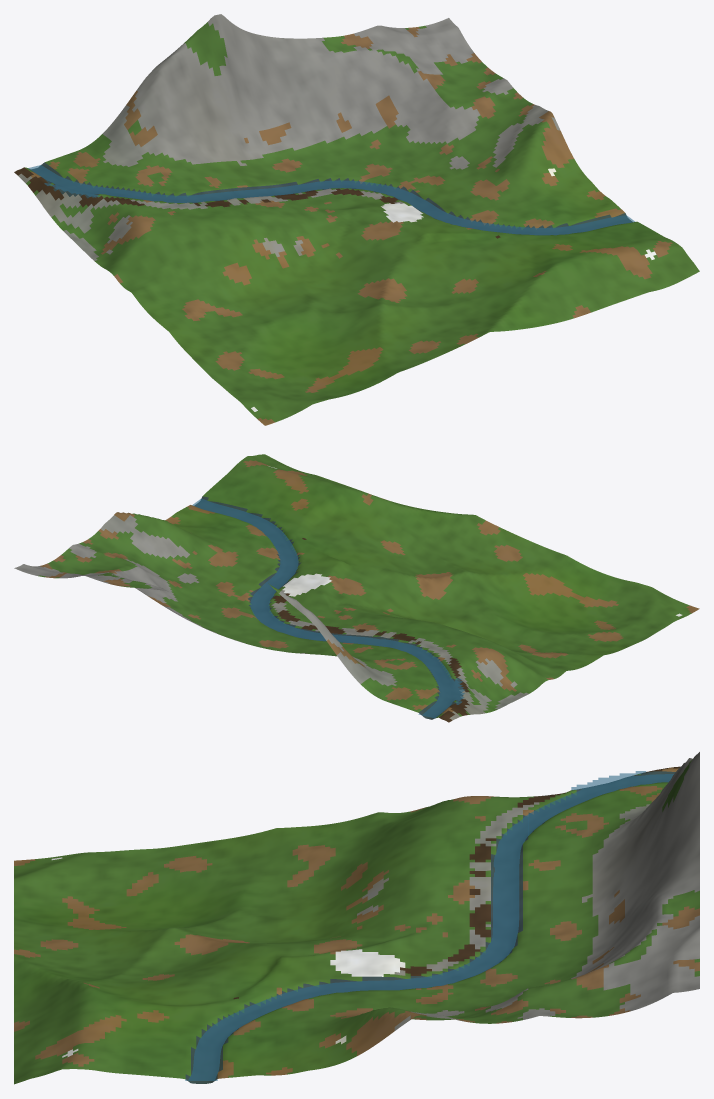
The model's file is chunk_4_3.glb.
3 views of the same model, one above another, from view 1: azimuth 30°, elevation 25°; view 2: azimuth 150°, elevation 25°; view 3: azimuth 270°, elevation 25° (orthographic). The views are drawn at different scales.
Visible parts, largest first — view 1: Surface_Grass, Surface_Gravel, Surface_Dirt, Surface_Water, Water, Surface_Mud, Surface_Snow; view 2: Surface_Grass, Surface_Dirt, Surface_Gravel, Surface_Water, Water, Surface_Mud, Surface_Snow; view 3: Surface_Grass, Surface_Gravel, Surface_Dirt, Surface_Water, Water, Surface_Mud, Surface_Snow.
Boxes of the visible parts, left/top/right/bottom form: Surface_Grass: left=25, top=22, right=699, bottom=422; Surface_Gravel: left=18, top=14, right=560, bottom=260; Surface_Dirt: left=30, top=27, right=672, bottom=425; Surface_Water: left=28, top=162, right=632, bottom=234; Water: left=28, top=165, right=635, bottom=235; Surface_Mud: left=14, top=167, right=500, bottom=238; Surface_Snow: left=251, top=168, right=656, bottom=411; Surface_Grass: left=38, top=454, right=691, bottom=717; Surface_Dirt: left=40, top=460, right=699, bottom=713; Surface_Gravel: left=14, top=515, right=528, bottom=720; Surface_Water: left=194, top=496, right=463, bottom=719; Water: left=192, top=498, right=464, bottom=718; Surface_Mud: left=272, top=538, right=469, bottom=722; Surface_Snow: left=268, top=466, right=682, bottom=616; Surface_Grass: left=14, top=759, right=699, bottom=1084; Surface_Gravel: left=357, top=752, right=699, bottom=1030; Surface_Dirt: left=14, top=767, right=699, bottom=1078; Surface_Water: left=185, top=771, right=675, bottom=1083; Water: left=185, top=771, right=673, bottom=1080; Surface_Mud: left=233, top=766, right=680, bottom=999; Surface_Snow: left=51, top=857, right=405, bottom=1057.
Size of the model in its own units: 256 by 99.99 by 256.
